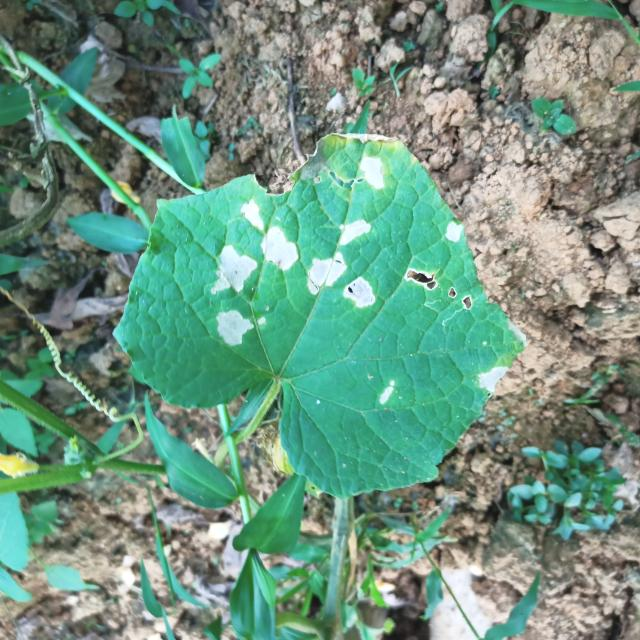disease_cucumber: (306, 250, 378, 309), (242, 198, 300, 269), (402, 264, 472, 318), (207, 245, 260, 296), (215, 308, 268, 348), (336, 216, 373, 247), (359, 154, 384, 192), (477, 366, 508, 392), (374, 380, 397, 404), (443, 219, 464, 243)
